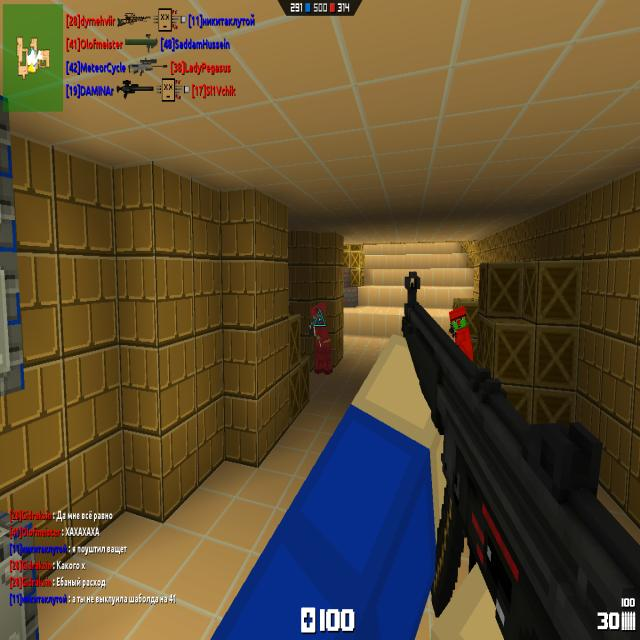enemy: (308, 302, 332, 376), (448, 305, 472, 362)
